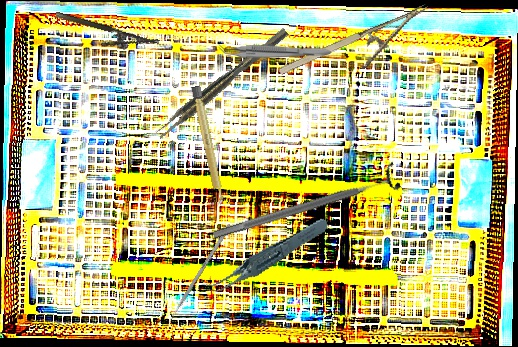Fixation Ring: (208, 160, 403, 251)
Needle Holder: (276, 3, 441, 99), (51, 10, 160, 61)
Pusher: (164, 224, 232, 328)
Scalpel Handle: (190, 85, 226, 207)
Tissue Forceps: (153, 27, 292, 141), (192, 216, 338, 296), (217, 42, 332, 59)
